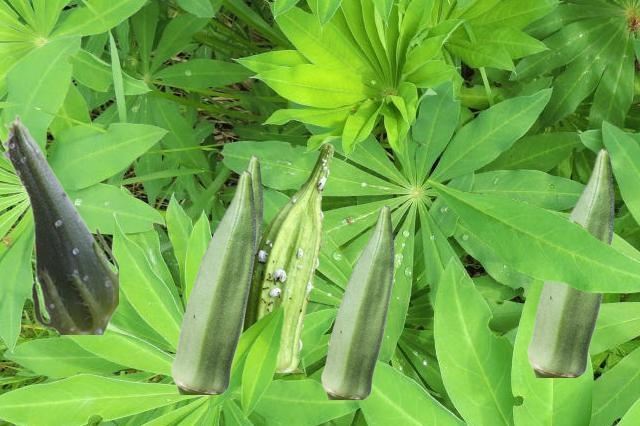okra: (1, 114, 117, 333), (242, 143, 333, 371), (527, 148, 613, 376), (171, 170, 255, 393), (321, 205, 393, 398), (246, 155, 262, 248)
